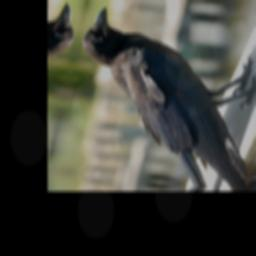Crow: (53, 4, 256, 190)
